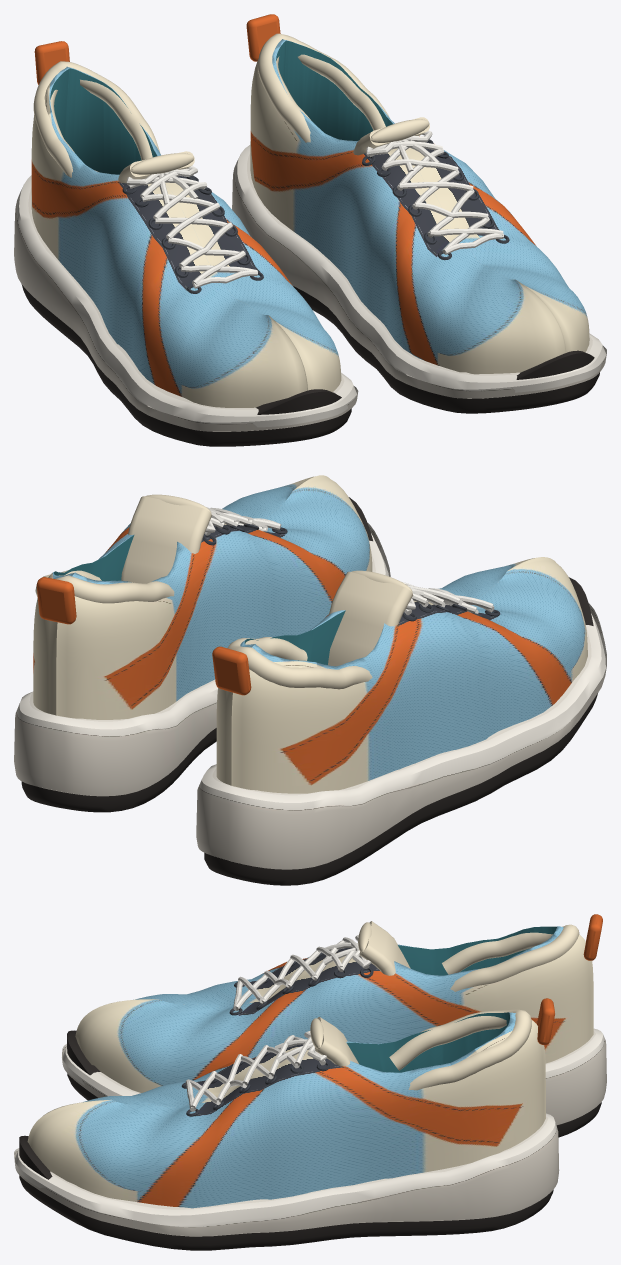
File: sneakers.glb
3 views of the same model, one above another, from view 1: azimuth 30°, elevation 25°; view 2: azimuth 150°, elevation 25°; view 3: azimuth 270°, elevation 25° (orthographic). The views are drawn at different scales.
Parts seen in each view (by area): view 1: upper, midsole, outsole, bow, collar, heel_tab, eyelet, tongue_cap, tongue; view 2: upper, midsole, tongue, outsole, collar, heel_tab, bow, eyelet, tongue_cap; view 3: upper, midsole, outsole, collar, bow, tongue, heel_tab, eyelet, tongue_cap.
Part boxes in pixels (x1,y1,x2,y2): upper: (31, 39, 589, 407); midsole: (14, 145, 606, 431); outsole: (21, 284, 599, 446); bow: (126, 130, 503, 288); collar: (33, 33, 389, 177); heel_tab: (34, 14, 280, 84); eyelet: (122, 139, 509, 293); tongue_cap: (130, 119, 429, 174); tongue: (118, 117, 429, 183); upper: (33, 475, 587, 793); midsole: (14, 523, 606, 869); tongue: (121, 496, 413, 666); outsole: (21, 497, 597, 885); collar: (35, 570, 372, 689); heel_tab: (36, 577, 251, 695); bow: (204, 507, 494, 615); eyelet: (202, 524, 500, 621); tongue_cap: (145, 494, 412, 592); upper: (27, 926, 593, 1208); midsole: (14, 1028, 606, 1236); outsole: (19, 1030, 601, 1250); collar: (389, 924, 579, 1090); bow: (185, 935, 371, 1111); tongue: (315, 921, 410, 1066); heel_tab: (537, 914, 602, 1044); eyelet: (181, 952, 373, 1116); tongue_cap: (310, 922, 371, 1049).
Size of the model in its own units: 0.2342 by 0.1228 by 0.3224.
Materials: 10 (2 with a texture image).
